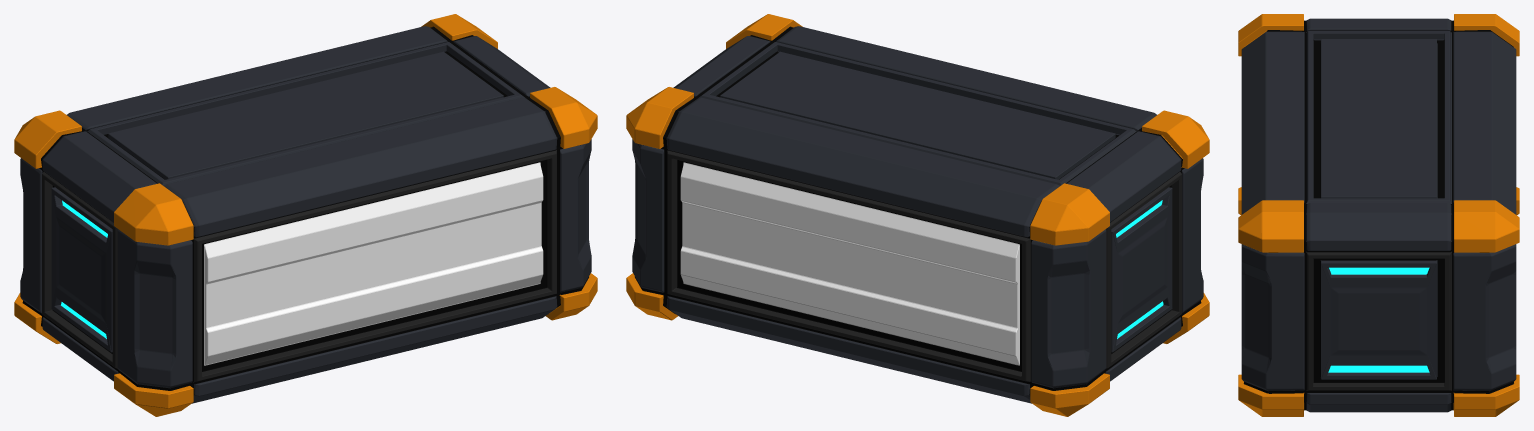
The model's file is SM_Defense_AmmoCrate.fbx.
3 renders of one model, left to right at view 1: azimuth 30°, elevation 25°; view 2: azimuth 150°, elevation 25°; view 3: azimuth 270°, elevation 25°, orthographic. The views are drawn at different scales.
Parts seen in each view (by area): view 1: SM_Defense_AmmoCrate; view 2: SM_Defense_AmmoCrate; view 3: SM_Defense_AmmoCrate.
Part boxes in pixels (<box>): SM_Defense_AmmoCrate: <box>14,14,597,416</box>; SM_Defense_AmmoCrate: <box>626,14,1209,416</box>; SM_Defense_AmmoCrate: <box>1238,14,1519,416</box>.
Bounding box in the file's own units: 110 × 48.23 × 60.
